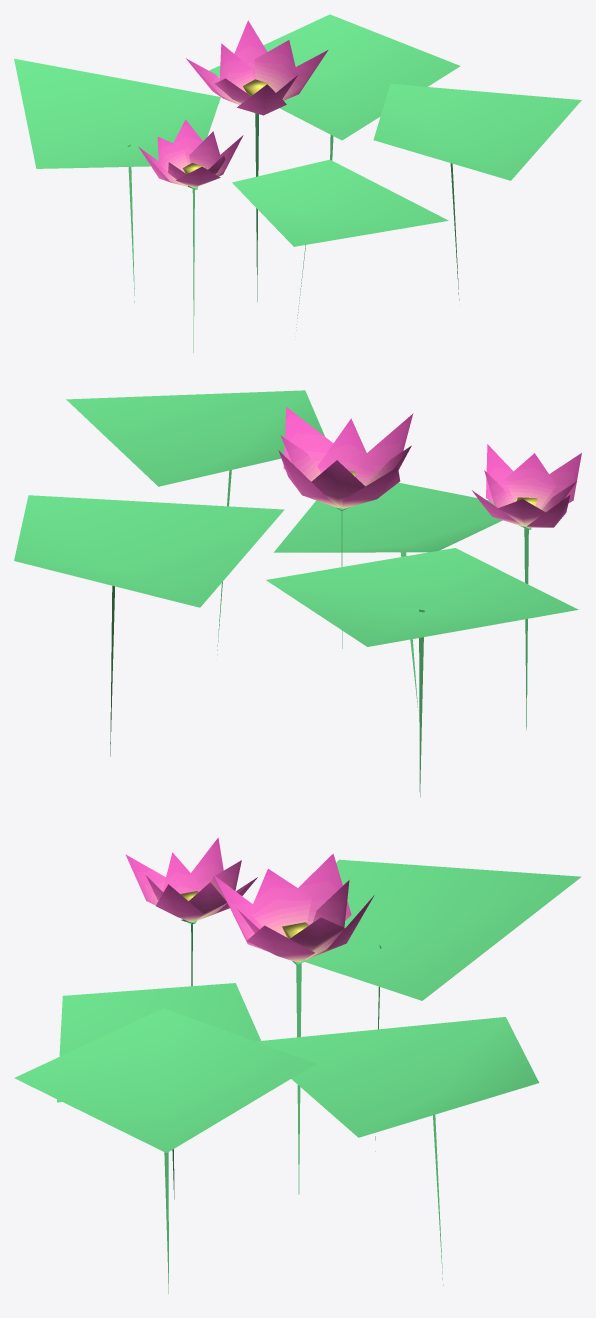
Rendered from lotus_flower_-_low_poly.glb.
The picture shows the model from 3 angles, top to bottom: view 1: azimuth 30°, elevation 25°; view 2: azimuth 150°, elevation 25°; view 3: azimuth 270°, elevation 25°; orthographic projection. The views are drawn at different scales.
Parts seen in each view (by area): view 1: Plane.001; view 2: Plane.001; view 3: Plane.001.
Part boxes in pixels (left/top/right/bottom): Plane.001: left=14, top=14, right=581, bottom=352; Plane.001: left=14, top=390, right=581, bottom=797; Plane.001: left=14, top=837, right=581, bottom=1293.
Bounding box in the file's own units: 616 × 321 × 499.
1 material, 1 textured.
